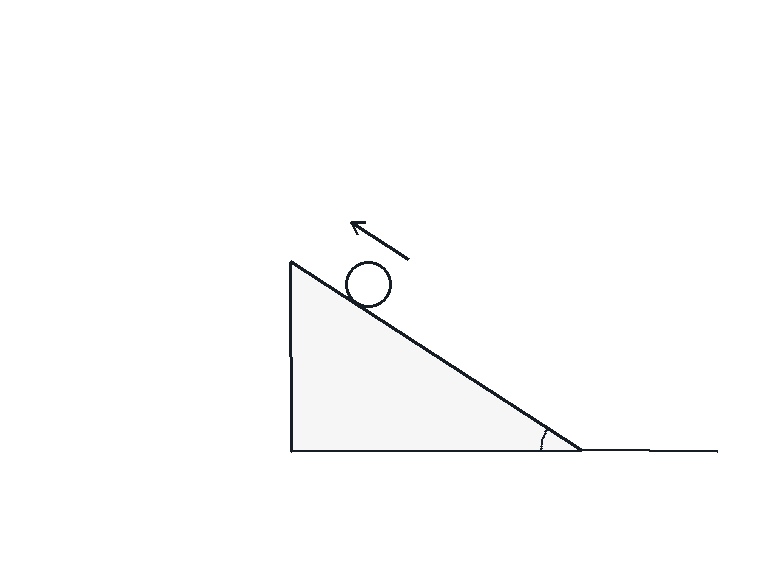ball: (343, 259, 393, 309)
ramp: (289, 260, 583, 452)
